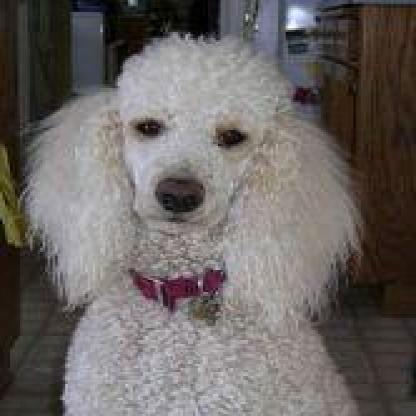toy_poodle: (22, 32, 371, 412)
